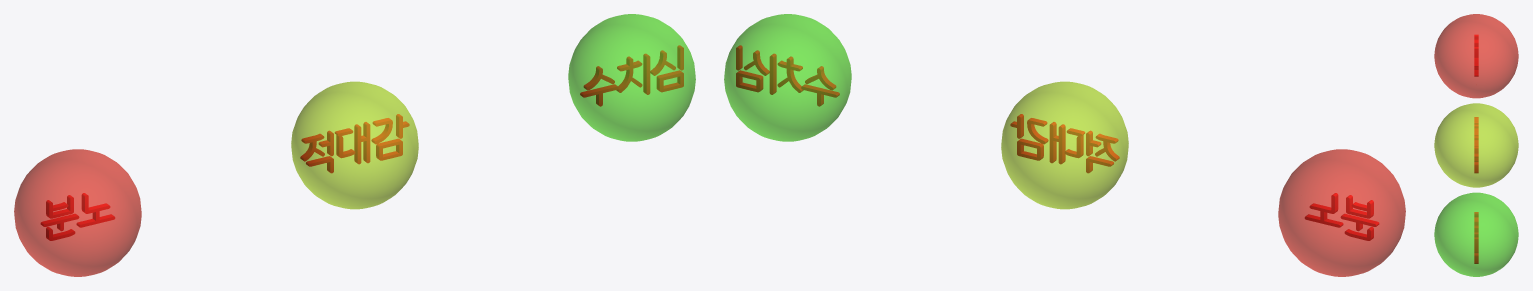
File: #08_Obj_Ball_Text.FBX
The picture shows the model from 3 angles, left to right: view 1: azimuth 30°, elevation 25°; view 2: azimuth 150°, elevation 25°; view 3: azimuth 270°, elevation 25°; orthographic projection. The views are drawn at different scales.
Parts seen in each view (by area): view 1: #08_Obj_Ball_Text_003, #08_Obj_Ball_Text_001, #08_Obj_Ball_Text_002; view 2: #08_Obj_Ball_Text_003, #08_Obj_Ball_Text_001, #08_Obj_Ball_Text_002; view 3: #08_Obj_Ball_Text_003, #08_Obj_Ball_Text_001, #08_Obj_Ball_Text_002.
Part boxes in pixels (x1=…): #08_Obj_Ball_Text_003: x1=568, y1=14, x2=695, y2=141; #08_Obj_Ball_Text_001: x1=14, y1=149, x2=141, y2=276; #08_Obj_Ball_Text_002: x1=291, y1=81, x2=418, y2=209; #08_Obj_Ball_Text_003: x1=724, y1=14, x2=851, y2=141; #08_Obj_Ball_Text_001: x1=1278, y1=149, x2=1405, y2=276; #08_Obj_Ball_Text_002: x1=1001, y1=81, x2=1128, y2=209; #08_Obj_Ball_Text_003: x1=1434, y1=192, x2=1518, y2=276; #08_Obj_Ball_Text_001: x1=1434, y1=14, x2=1518, y2=98; #08_Obj_Ball_Text_002: x1=1434, y1=103, x2=1518, y2=187.
Size of the model in its own units: 2400 by 400 by 400.
